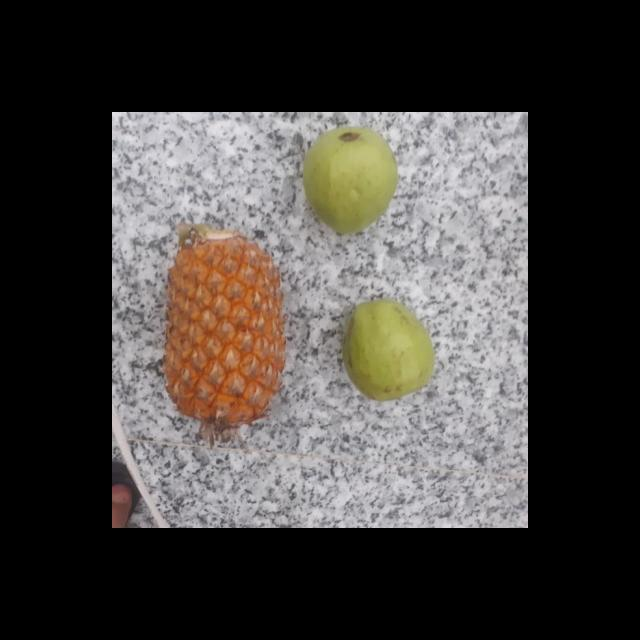guava: (297, 126, 403, 236), (338, 299, 436, 399)
pineapple: (162, 216, 286, 434)
